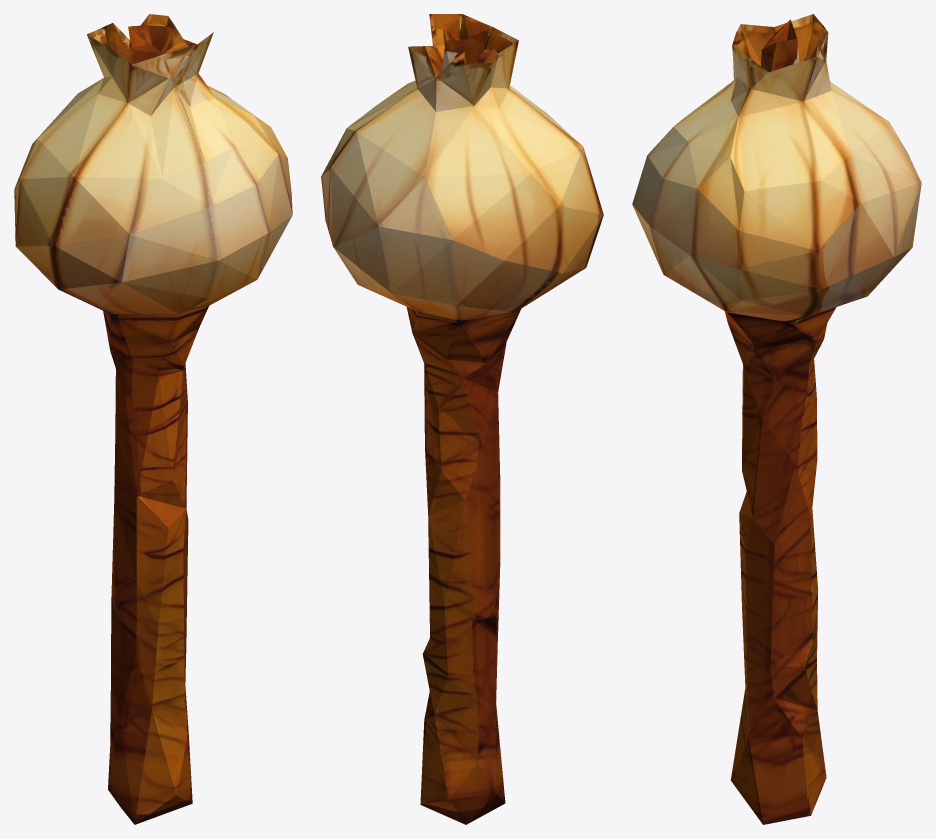
Rendered from wooden_torch_stick.glb.
The picture shows the model from 3 angles, left to right: view 1: azimuth 30°, elevation 25°; view 2: azimuth 150°, elevation 25°; view 3: azimuth 270°, elevation 25°; orthographic projection.
Parts seen in each view (by area): view 1: TexturedMesh_.obj; view 2: TexturedMesh_.obj; view 3: TexturedMesh_.obj.
Part boxes in pixels (x1,y1,x2,y2): TexturedMesh_.obj: (14,14,292,824); TexturedMesh_.obj: (321,14,603,824); TexturedMesh_.obj: (632,14,921,824).
Size of the model in its own units: 0.6363 by 1.97 by 0.6568.
1 material, 1 textured.
